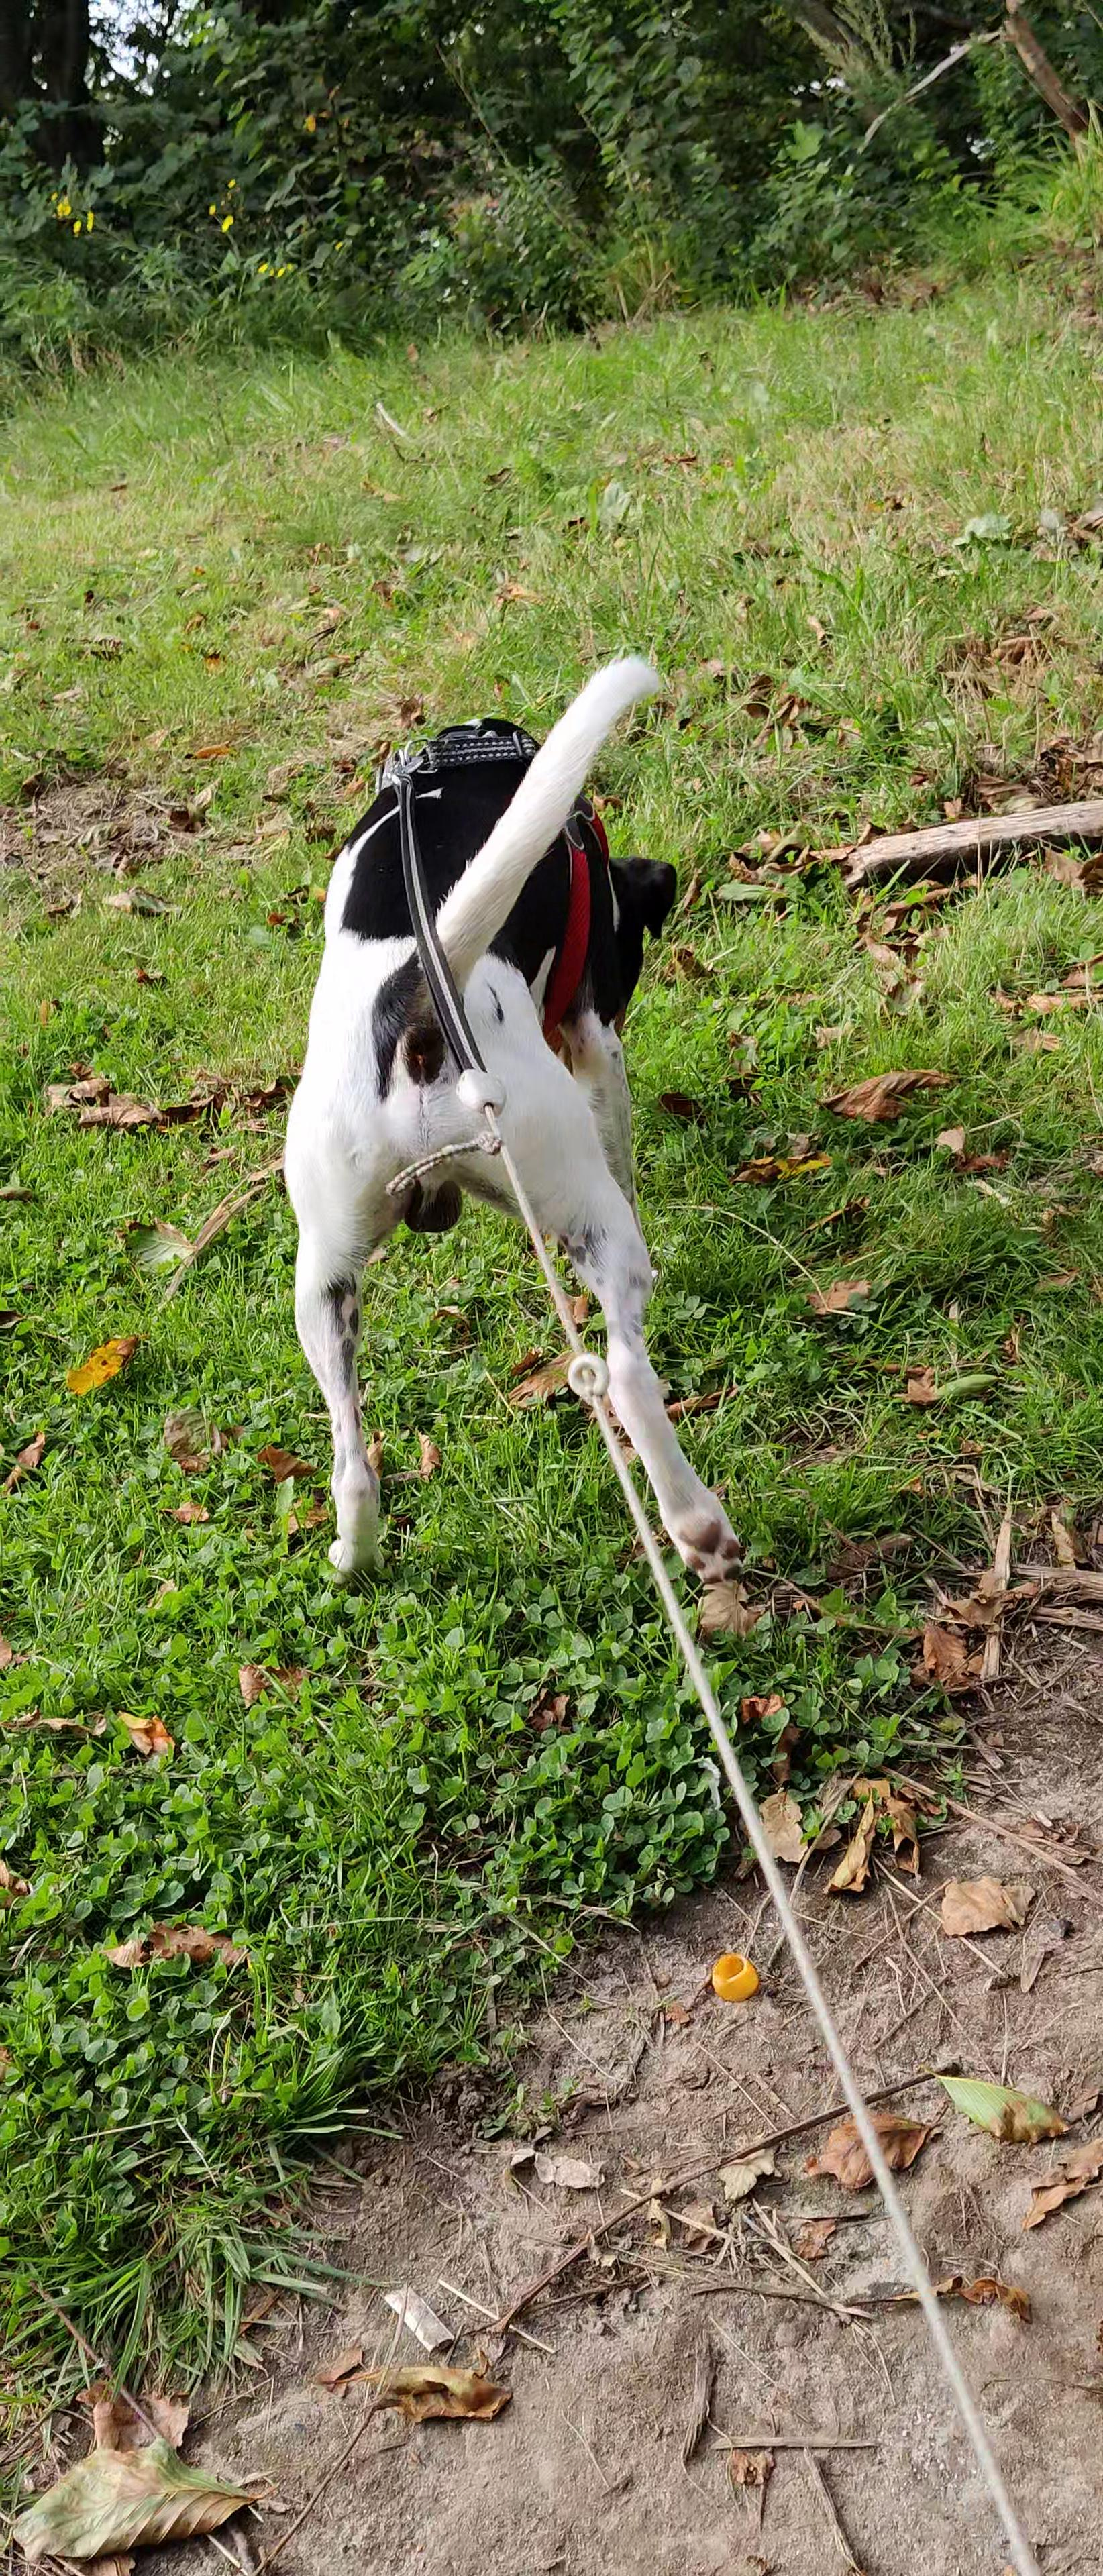Dog: (253, 628, 781, 1613)
